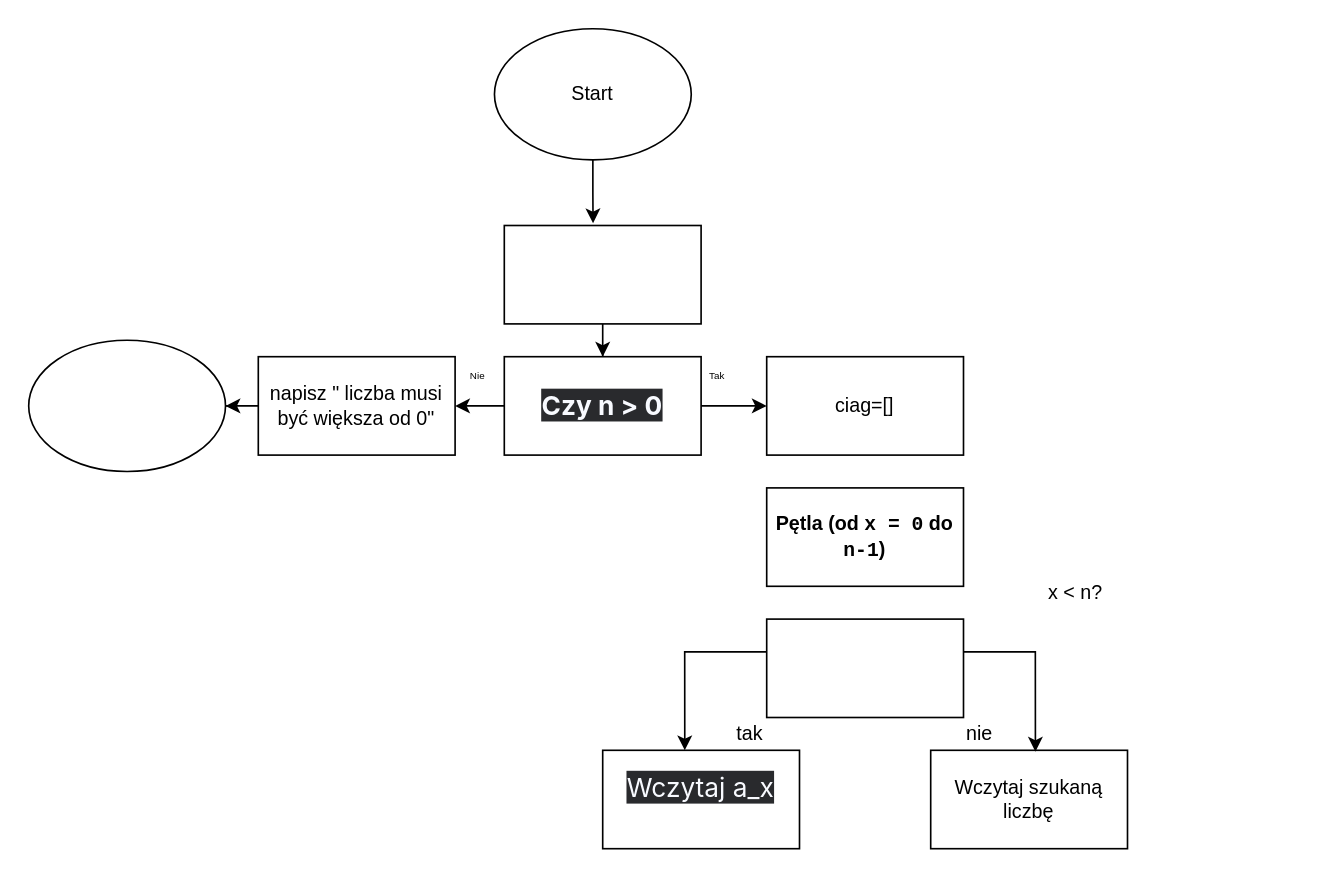
The diagram is 1337 pixels wide and 879 high, and some of its shapes have lost their labels. Here are the shapes that lost their labels. From the top down, the box of each, then its label:
(503, 224, 701, 324): Wczytaj n
(27, 339, 226, 472): Koniec
(765, 617, 963, 718): x<n?
